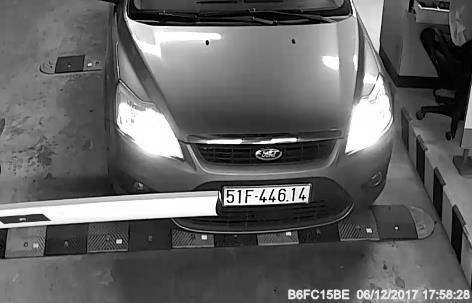License-plate: (215, 177, 323, 216)
